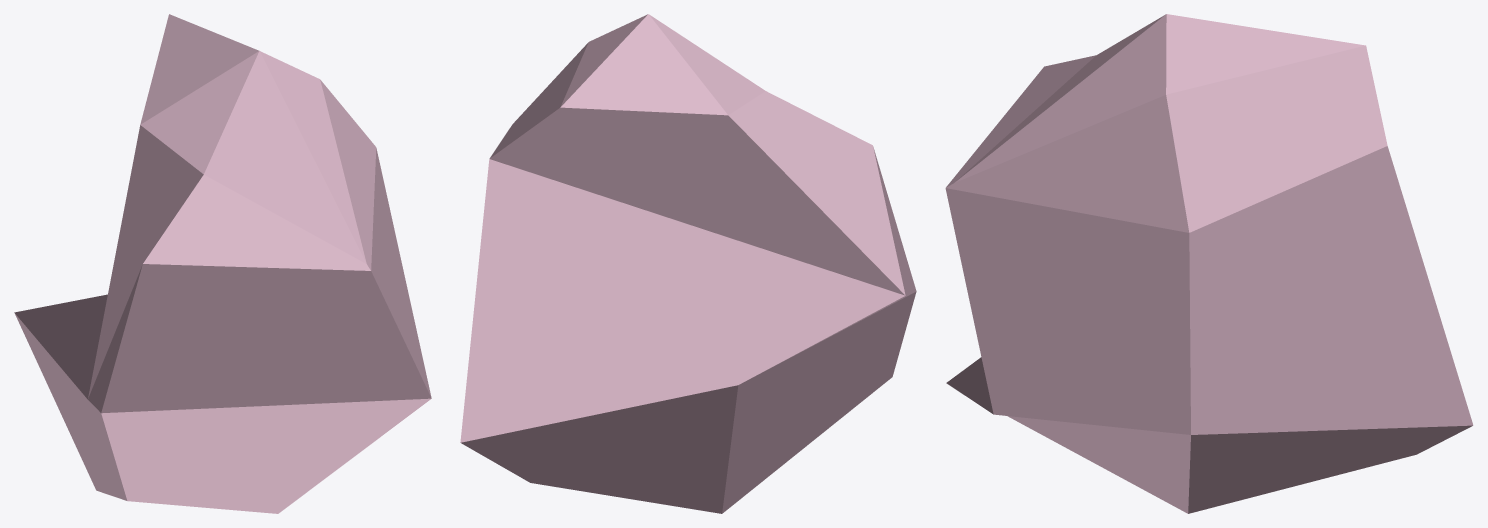
The model's file is rock.fbx.
3 views of the same model, side by side, from view 1: azimuth 30°, elevation 25°; view 2: azimuth 150°, elevation 25°; view 3: azimuth 270°, elevation 25° (orthographic). The views are drawn at different scales.
Parts seen in each view (by area): view 1: pSphere1; view 2: pSphere1; view 3: pSphere1.
Part boxes in pixels (x1,y1,x2,y2): pSphere1: (14, 14, 431, 513); pSphere1: (460, 14, 916, 513); pSphere1: (945, 14, 1473, 513).
Bounding box in the file's own units: 3.64 × 4.21 × 4.08.
